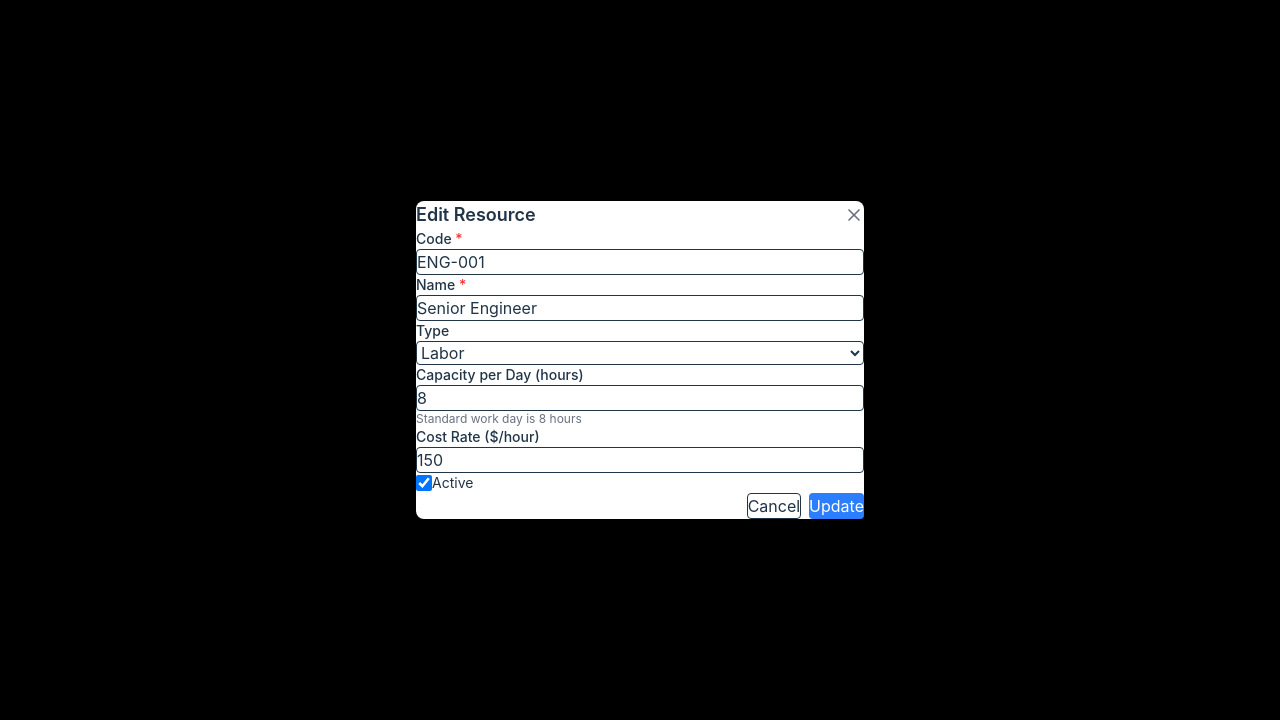
ResourceForm › submit success and error › shows error toast on update failure
The image size is (1280, 720).
Replace the text in the field showing "Senior Engineer" with "Staff Engineer": (640,308) x1=416 y1=295 x2=864 y2=321
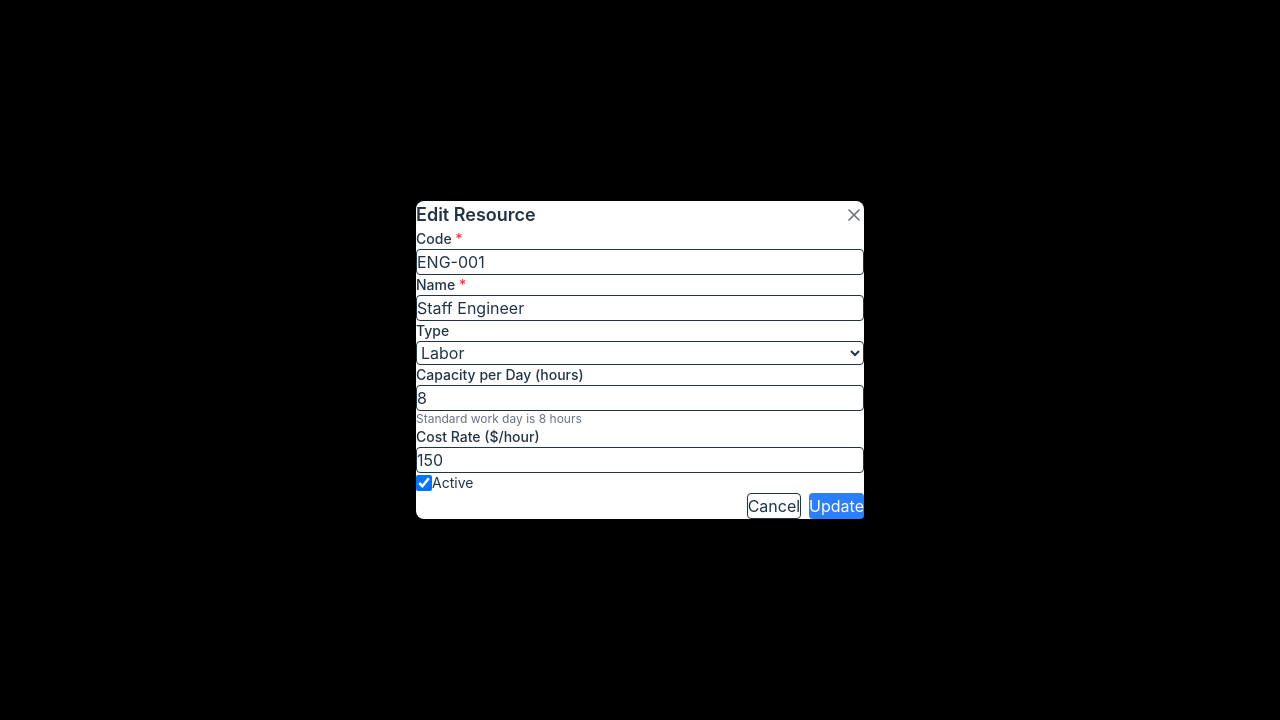
Click the button "Update": (837,506) x1=809 y1=493 x2=864 y2=519
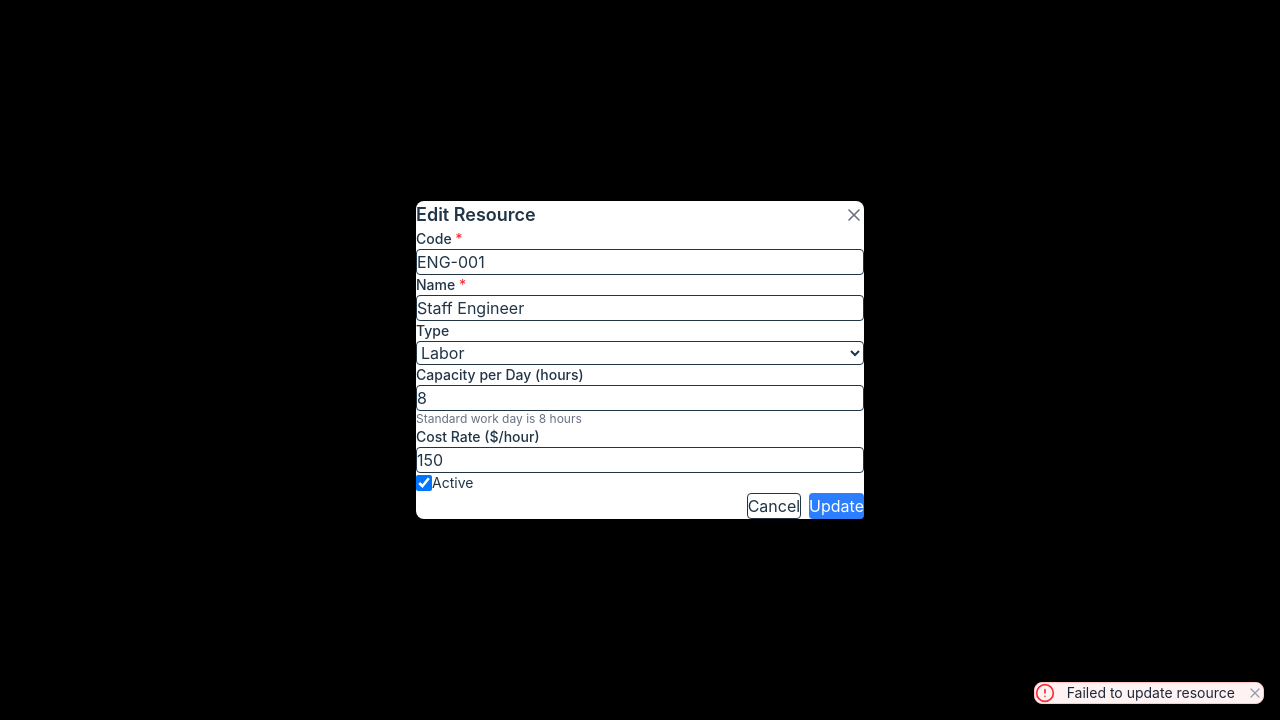
Result: the text "Failed to update resource" is shown at x1=1067 y1=683 x2=1235 y2=703
